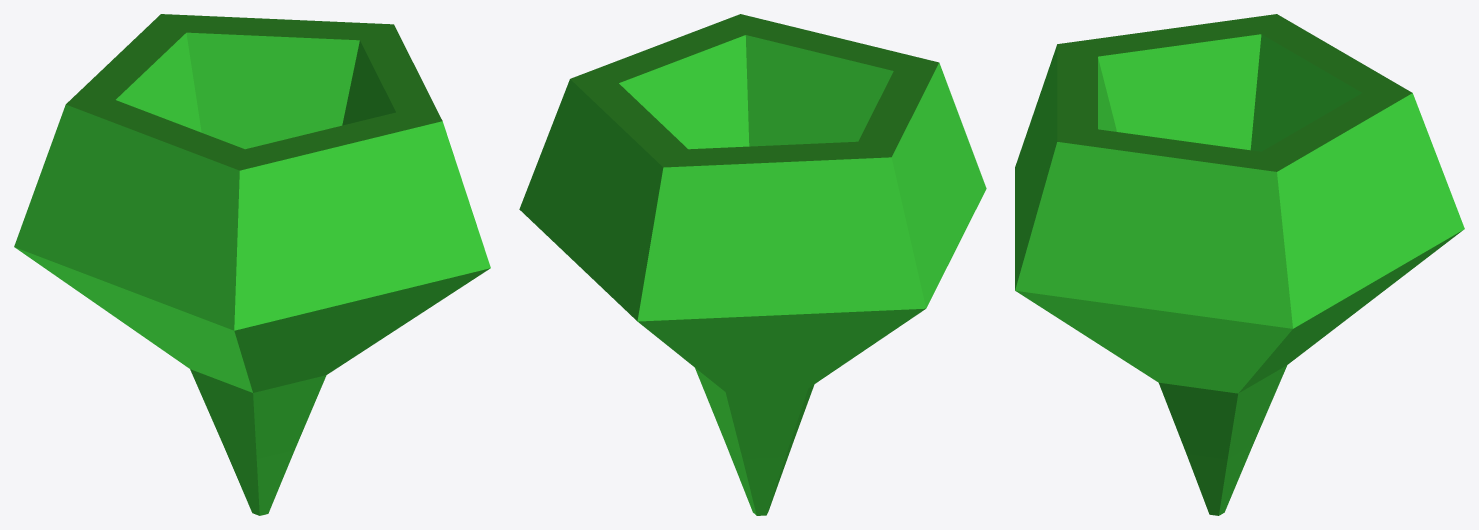
File: Bamboo1-4.fbx
3 views of the same model, side by side, from view 1: azimuth 30°, elevation 25°; view 2: azimuth 150°, elevation 25°; view 3: azimuth 270°, elevation 25° (orthographic). The views are drawn at different scales.
Parts seen in each view (by area): view 1: Bamboo1/4; view 2: Bamboo1/4; view 3: Bamboo1/4.
Part boxes in pixels (x1,y1,x2,y2): Bamboo1/4: (14,14,490,515); Bamboo1/4: (519,14,986,515); Bamboo1/4: (1015,14,1464,515).
Bounding box in the file's own units: 24.07 × 23.56 × 22.89.
